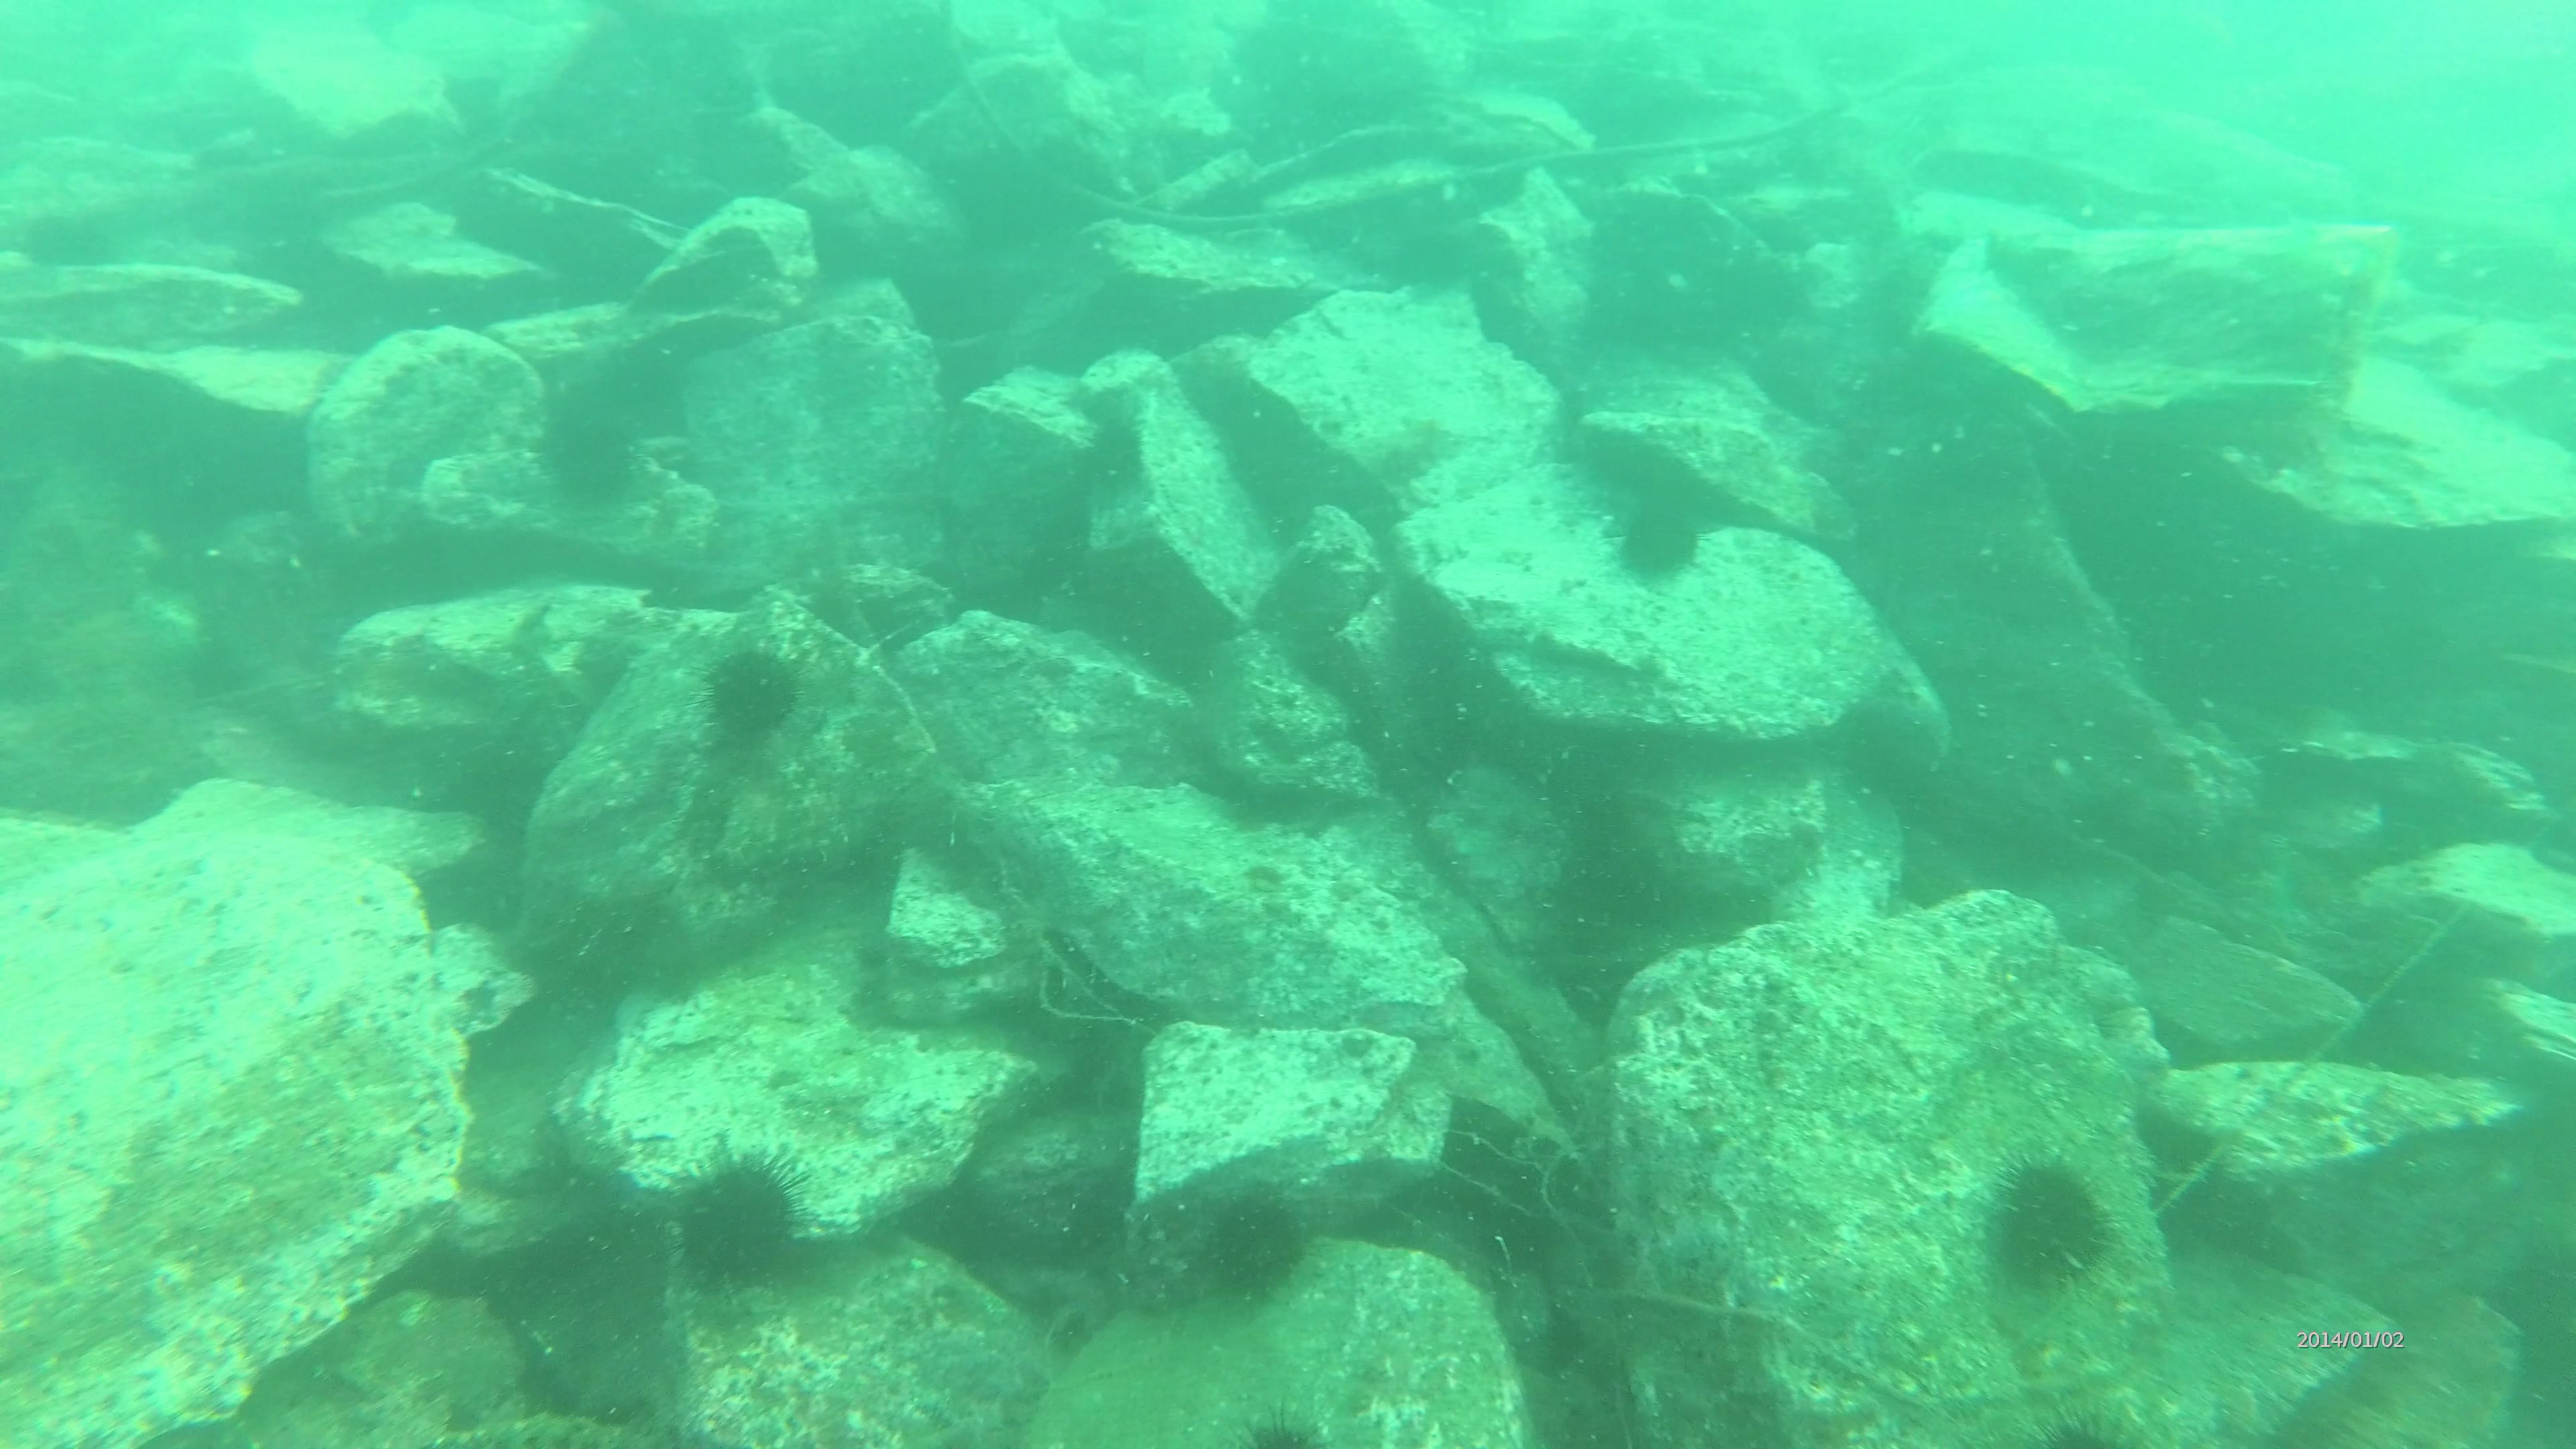echinus: (655, 1155, 828, 1311), (1971, 1155, 2134, 1297), (1191, 1180, 1311, 1316), (694, 639, 812, 757), (534, 395, 644, 515), (1615, 502, 1718, 593), (2020, 1389, 2169, 1449)
holothurian: (1357, 402, 1461, 495)
